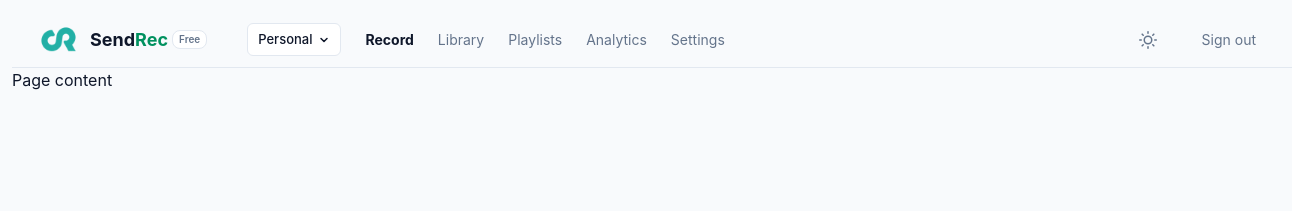
it: Layout › renders org switcher with orgs listed
The image size is (1292, 211).
Click the button named "Switch workspace" at (294, 40), box left=247, top=23, right=342, bottom=56
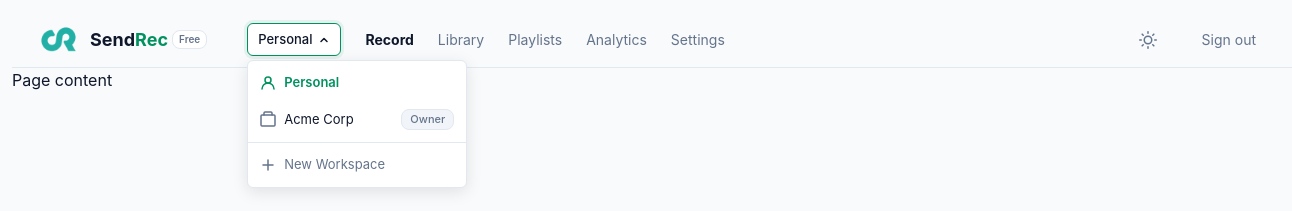
Expected: the text "Acme Corp" is shown, left=284, top=111, right=354, bottom=127
Expected: the text "owner" is shown, left=401, top=109, right=454, bottom=130
